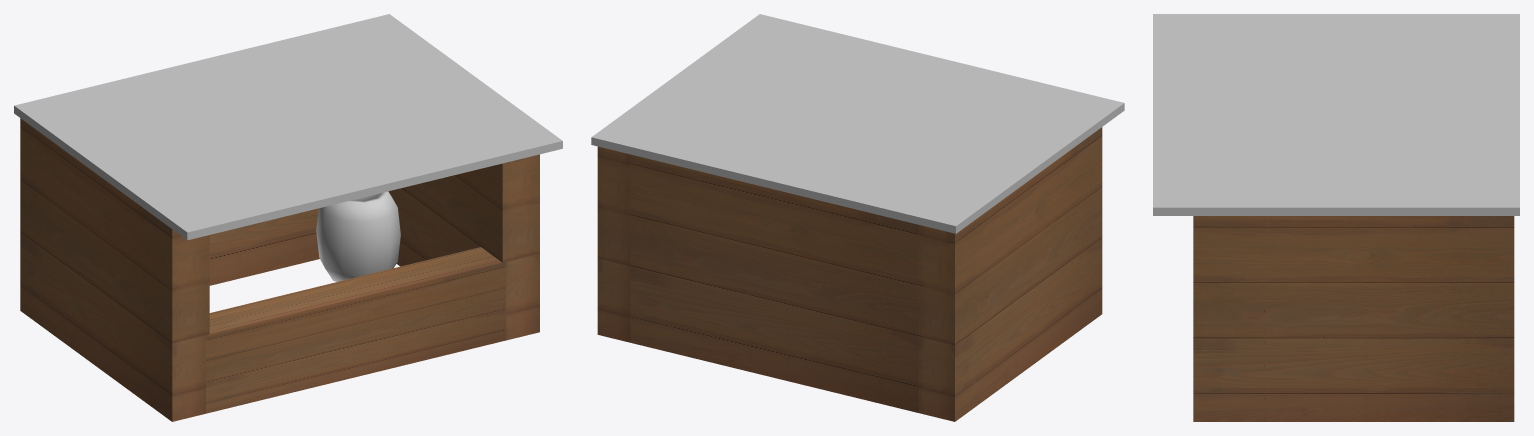
File: roten2.FBX
3 renders of one model, left to right at view 1: azimuth 30°, elevation 25°; view 2: azimuth 150°, elevation 25°; view 3: azimuth 270°, elevation 25°, orthographic. The views are drawn at different scales.
Visible parts, largest first — view 1: Box005, Box004, Box001, Box003, Barrel, Box002; view 2: Box005, Box002, Box004, Box003; view 3: Box005, Box003.
Part boxes in pixels (bbox=[...]): Box005: bbox=[14, 14, 562, 240]; Box004: bbox=[20, 118, 209, 421]; Box001: bbox=[206, 247, 506, 413]; Box003: bbox=[388, 154, 539, 340]; Barrel: bbox=[316, 191, 400, 281]; Box002: bbox=[209, 208, 319, 285]; Box005: bbox=[591, 14, 1124, 233]; Box002: bbox=[630, 154, 922, 412]; Box004: bbox=[918, 127, 1102, 421]; Box003: bbox=[597, 146, 632, 342]; Box005: bbox=[1153, 14, 1519, 215]; Box003: bbox=[1193, 216, 1514, 421].
Size of the model in its own units: 5 by 2.6 by 4.
